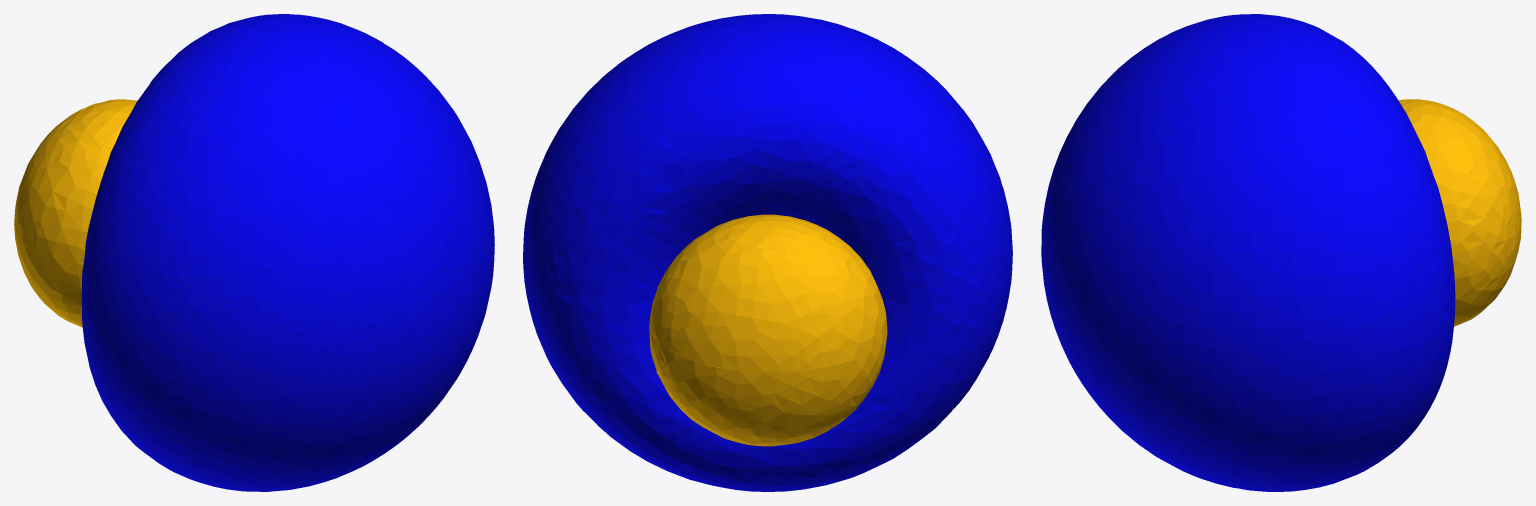
3 renders of one model, left to right at view 1: azimuth 30°, elevation 25°; view 2: azimuth 150°, elevation 25°; view 3: azimuth 270°, elevation 25°, orthographic.
Bounding box in the file's own units: 11.56 × 11.98 × 11.96.
